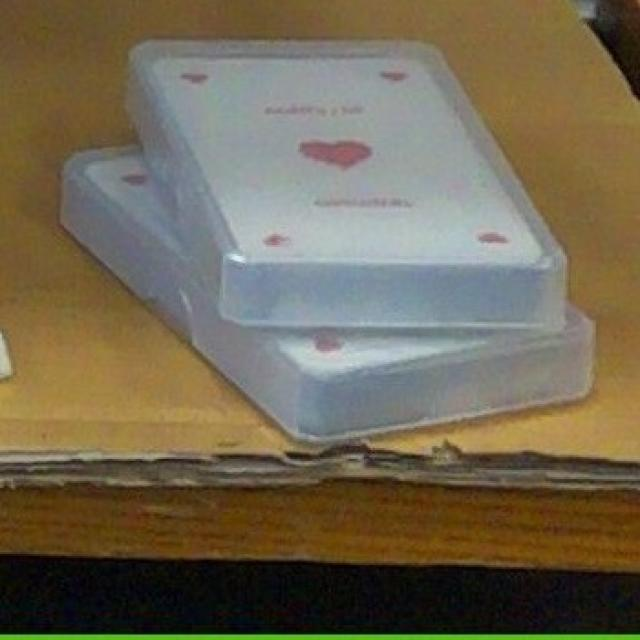Jasskarte: (62, 148, 592, 439), (130, 40, 563, 325)
